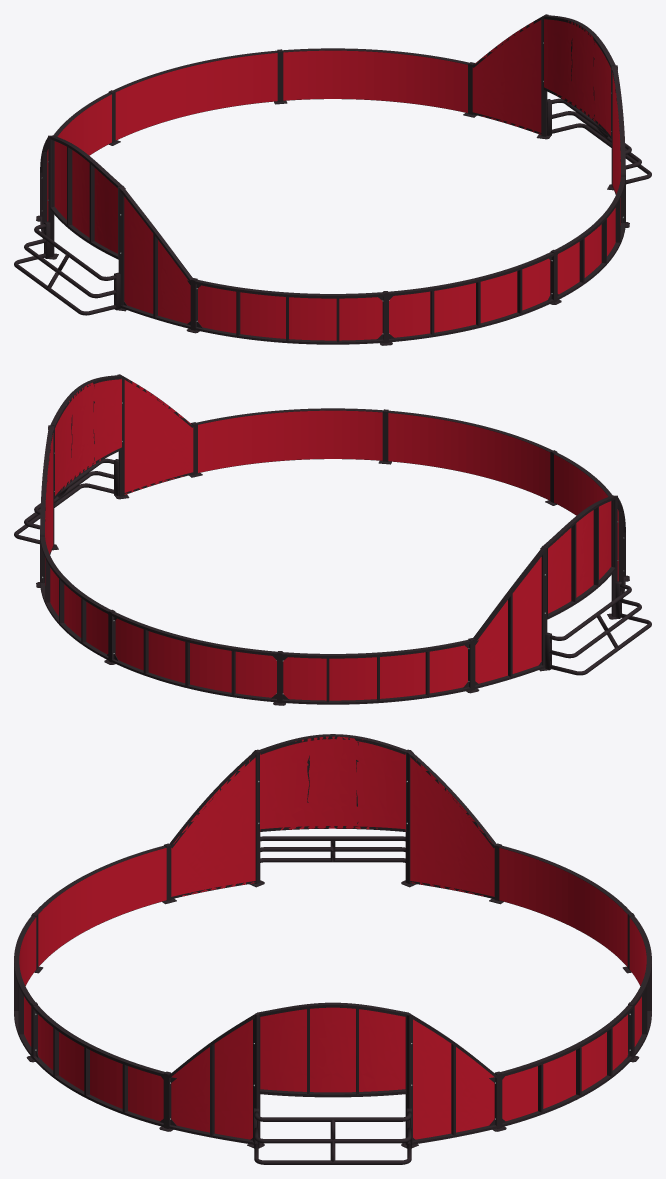
Rendered from panna-play.glb.
3 views of the same model, one above another, from view 1: azimuth 30°, elevation 25°; view 2: azimuth 150°, elevation 25°; view 3: azimuth 270°, elevation 25° (orthographic). The views are drawn at different scales.
Parts seen in each view (by area): view 1: WEB_PO1_0_0_sheet, WEB_PO1_0_1_sheet, WEB_PO1_180_0_sheet, WEB_PO1_180_1_sheet, WEB_PO2L_east_sheet, WEB_PO3_east_sheet, WEB_PO2L_west_sheet, WEB_PO3_west_sheet, WEB_PO1_180_1_frame, WEB_PO1_180_0_frame, WEB_BR1_west_frame, WEB_PO3_west_frame (+12 smaller); view 2: WEB_PO1_180_2_sheet, WEB_PO1_180_1_sheet, WEB_PO1_0_2_sheet, WEB_PO1_0_1_sheet, WEB_PO2P_east_sheet, WEB_PO3_east_sheet, WEB_PO2P_west_sheet, WEB_PO3_west_sheet, WEB_PO1_0_1_frame, WEB_PO1_0_2_frame, WEB_BR1_west_frame, WEB_PO3_west_frame (+12 smaller); view 3: WEB_PO3_west_sheet, WEB_PO3_east_sheet, WEB_PO2L_west_sheet, WEB_PO2P_west_sheet, WEB_PO1_0_2_sheet, WEB_PO1_180_0_sheet, WEB_PO2L_east_sheet, WEB_PO2P_east_sheet, WEB_PO1_0_0_sheet, WEB_PO1_180_2_sheet, WEB_BR1_east_frame, WEB_PO1_0_0_frame (+14 smaller).
Part boxes in pixels (x1,y1,x2,y2): WEB_PO1_0_0_sheet: (283, 50, 467, 112); WEB_PO1_0_1_sheet: (115, 53, 277, 140); WEB_PO1_180_0_sheet: (198, 285, 382, 340); WEB_PO1_180_1_sheet: (389, 258, 550, 337); WEB_PO2L_east_sheet: (472, 19, 541, 134); WEB_PO3_east_sheet: (544, 18, 610, 135); WEB_PO2L_west_sheet: (124, 197, 190, 323); WEB_PO3_west_sheet: (54, 141, 117, 253); WEB_PO1_180_1_frame: (388, 252, 554, 342); WEB_PO1_180_0_frame: (195, 279, 383, 344); WEB_BR1_west_frame: (14, 221, 120, 315); WEB_PO3_west_frame: (50, 135, 121, 259); WEB_PO1_180_2_sheet: (198, 410, 382, 472); WEB_PO1_180_1_sheet: (388, 413, 550, 500); WEB_PO1_0_2_sheet: (283, 645, 467, 700); WEB_PO1_0_1_sheet: (115, 618, 276, 697); WEB_PO2P_east_sheet: (124, 379, 193, 494); WEB_PO3_east_sheet: (55, 378, 121, 495); WEB_PO2P_west_sheet: (475, 557, 541, 683); WEB_PO3_west_sheet: (548, 501, 611, 613); WEB_PO1_0_1_frame: (111, 612, 277, 702); WEB_PO1_0_2_frame: (282, 639, 470, 704); WEB_BR1_west_frame: (545, 581, 651, 675); WEB_PO3_west_frame: (544, 495, 615, 619); WEB_PO3_west_sheet: (260, 736, 405, 831); WEB_PO3_east_sheet: (260, 1007, 405, 1092); WEB_PO2L_west_sheet: (171, 757, 255, 896); WEB_PO2P_west_sheet: (410, 757, 494, 896); WEB_PO1_0_2_sheet: (499, 848, 627, 966); WEB_PO1_180_0_sheet: (38, 848, 166, 966); WEB_PO2L_east_sheet: (413, 1019, 494, 1139); WEB_PO2P_east_sheet: (171, 1019, 252, 1139); WEB_PO1_0_0_sheet: (502, 1014, 627, 1121); WEB_PO1_180_2_sheet: (38, 1014, 163, 1121); WEB_BR1_east_frame: (254, 1108, 411, 1164); WEB_PO1_0_0_frame: (500, 1005, 632, 1126).
Size of the model in its own units: 6.83 by 1.52 by 6.05.
